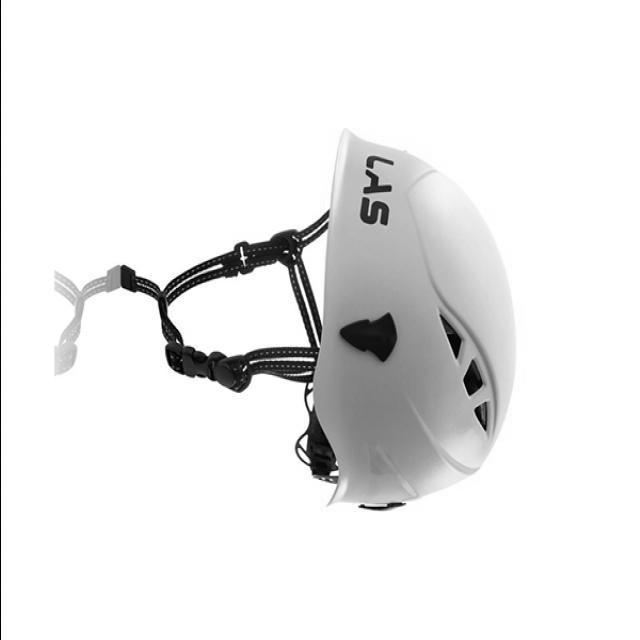safety_helmet: (100, 127, 516, 509)
